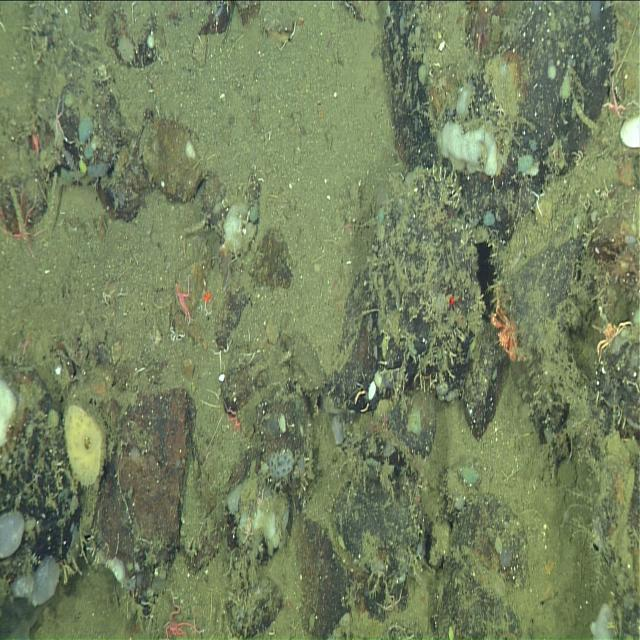Brittle Star: (163, 585, 205, 639), (50, 96, 70, 146), (526, 185, 550, 222)
Not Brittle Star: (60, 395, 109, 494), (438, 117, 508, 183), (487, 286, 525, 364), (0, 353, 23, 475), (27, 551, 63, 612), (0, 504, 27, 563), (618, 108, 640, 159), (454, 81, 474, 123)
